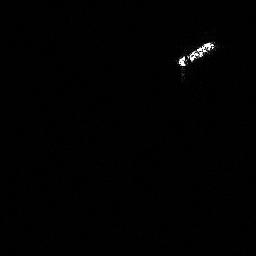ship: (177, 41, 215, 68)
